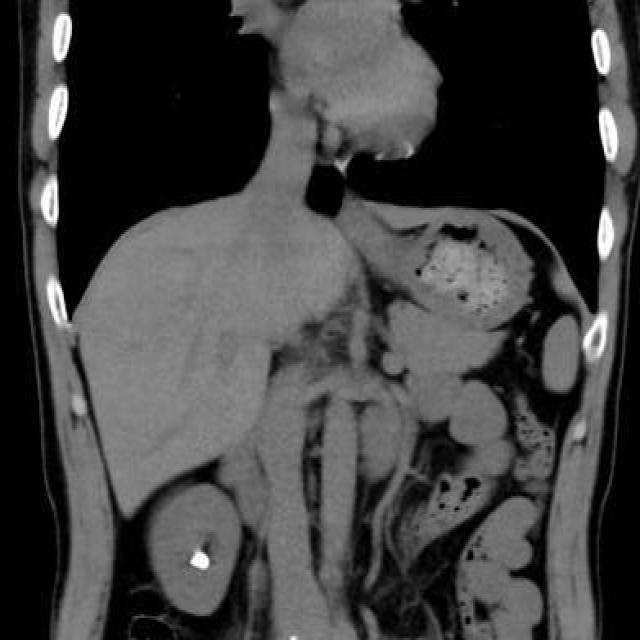Tas_Var: (188, 547, 211, 571)
